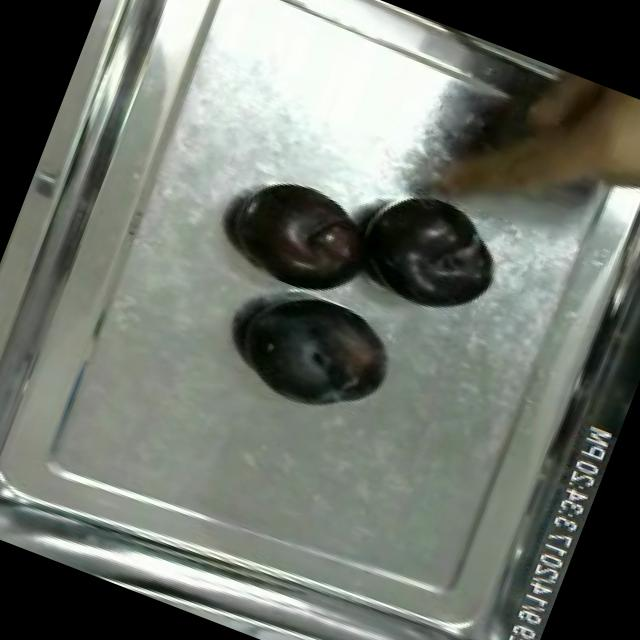Fruit: (218, 269, 410, 437), (335, 172, 518, 334), (212, 162, 386, 314)
